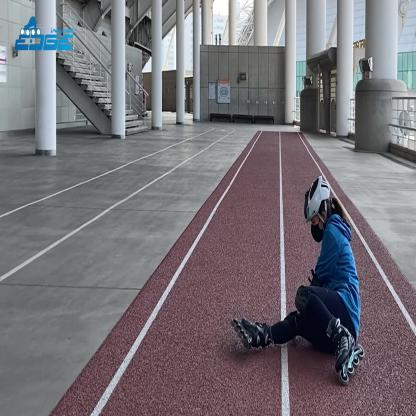Fall_Down: (238, 187, 363, 378)
